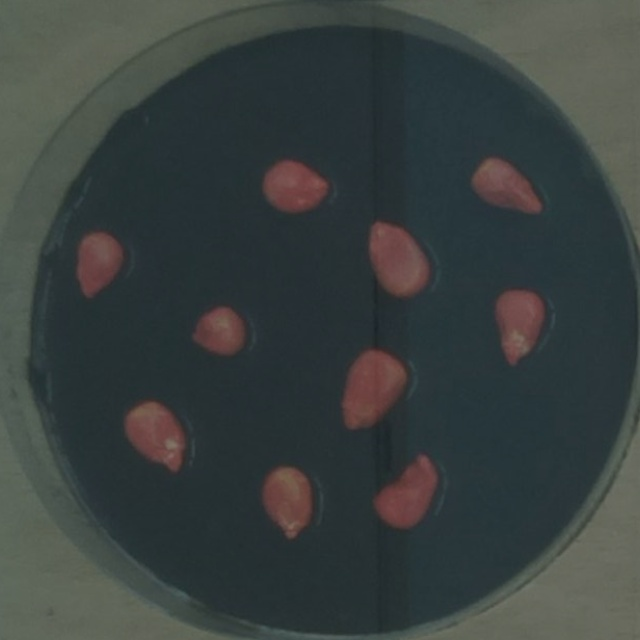Zea mays: (335, 339, 417, 437), (364, 443, 446, 538), (116, 394, 197, 481), (361, 212, 437, 303), (463, 150, 551, 222), (487, 283, 553, 375), (253, 457, 320, 546), (254, 151, 339, 221), (69, 224, 130, 305), (182, 297, 253, 364)
